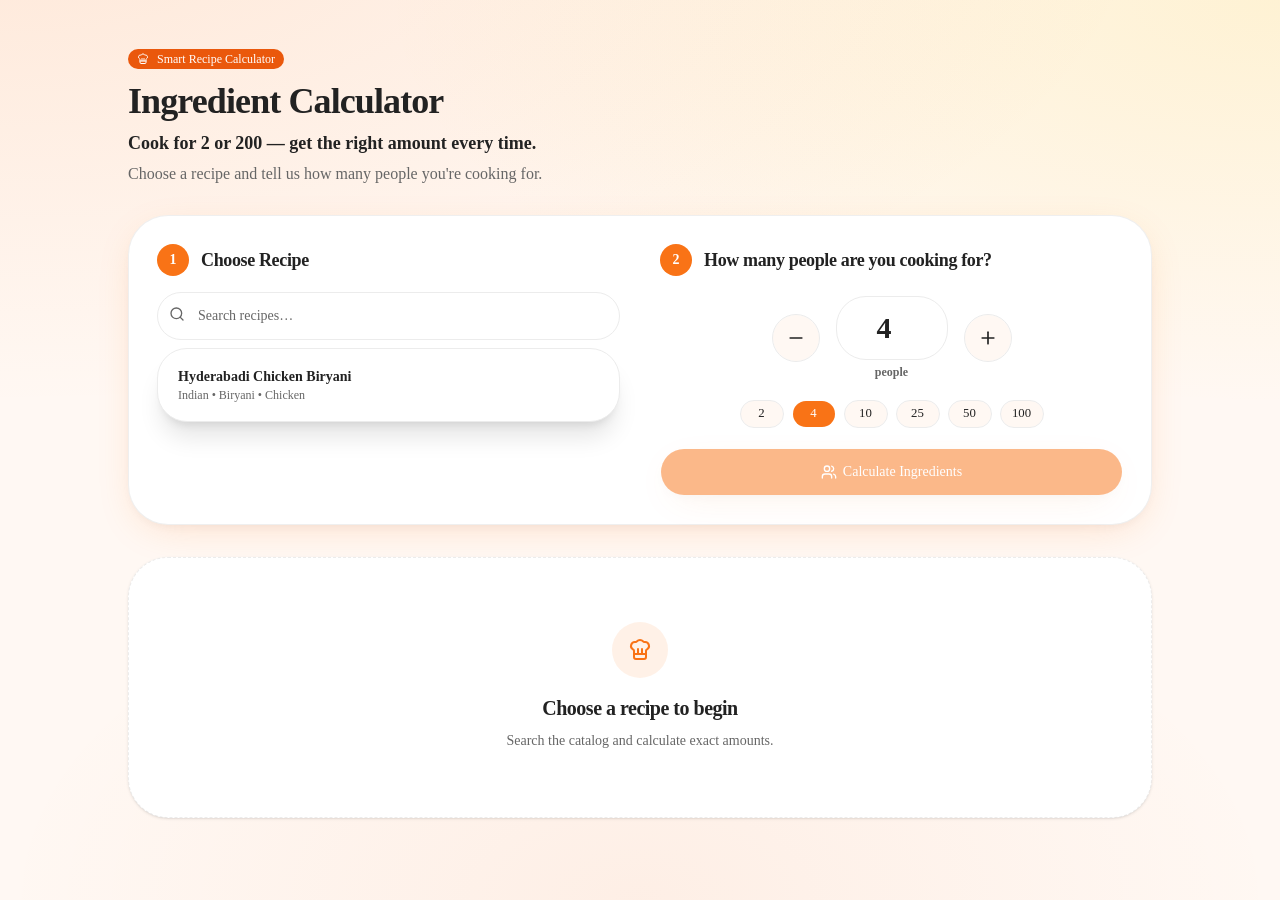
Scenario: Calculate page › supports direct input, step buttons, presets, and invalid validation
Step 1. Click the option "Hyderabadi Chicken Biryani Indian • Biryani • Chicken" → (265, 376), box [166, 357, 611, 413]
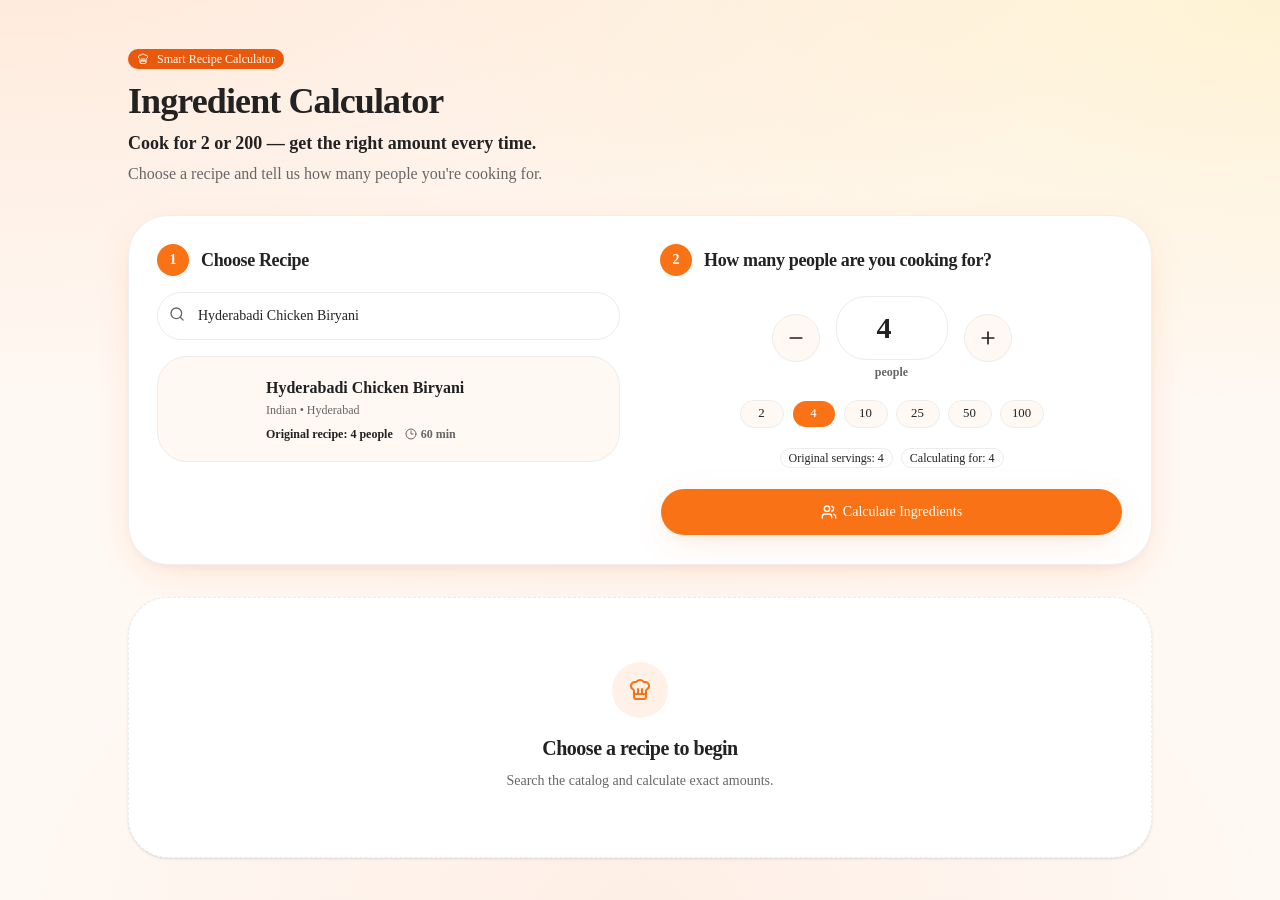
Step 2. Replace the text in the number field named "How many people" with "50" → (892, 328), box [836, 296, 948, 360]
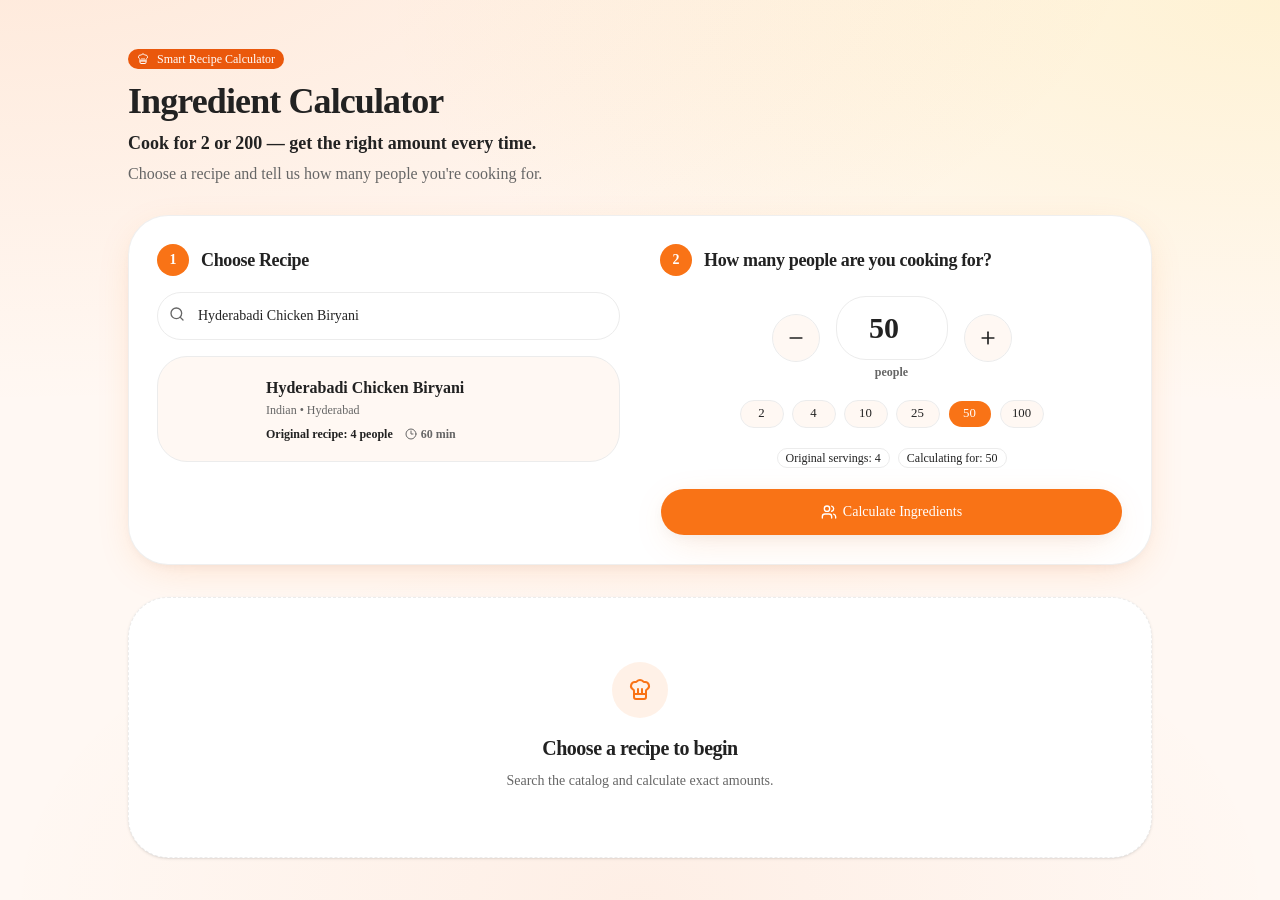
Step 3. Click the button named "Increase people" → (988, 338), box [964, 314, 1012, 362]
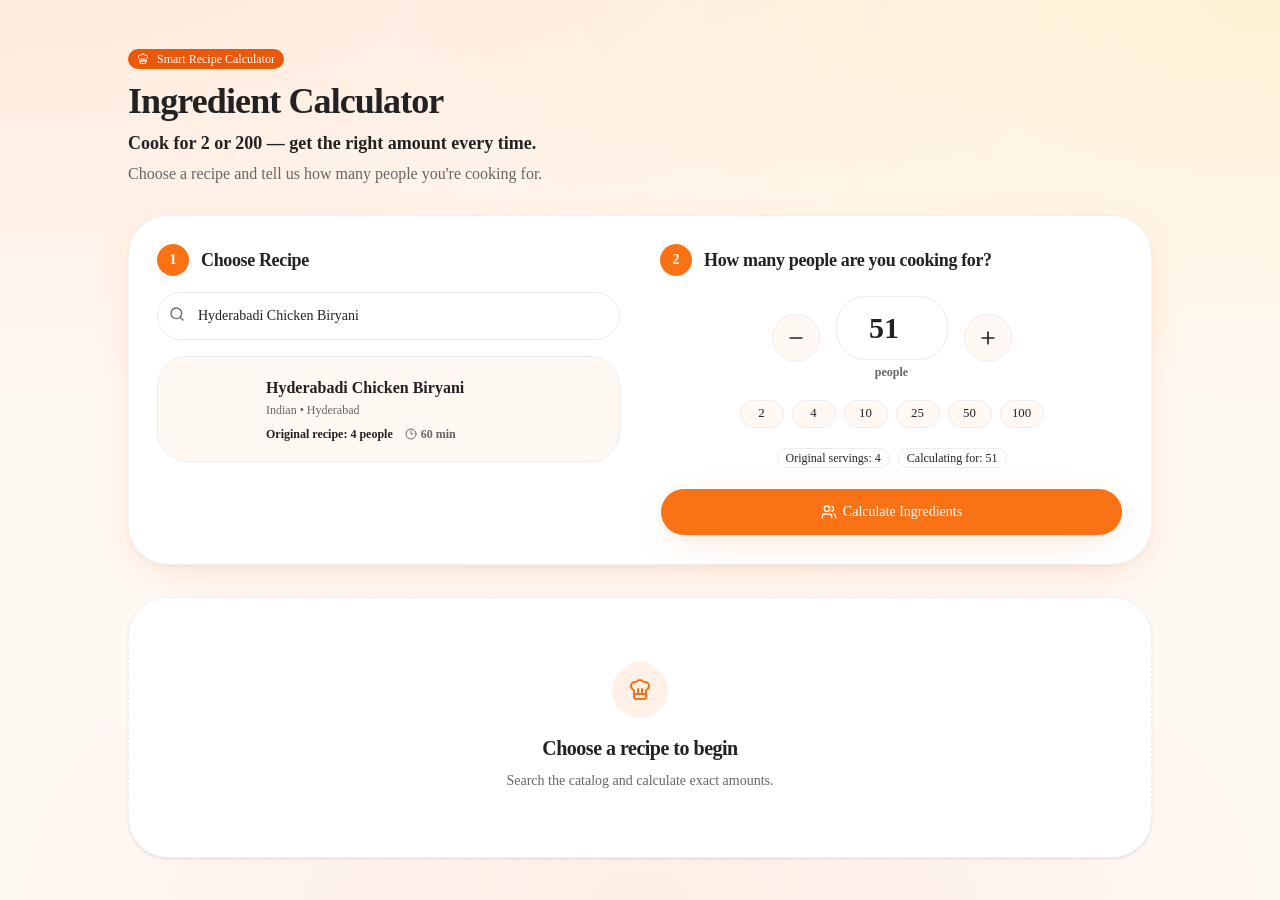
Check: the number field named "How many people" holds "51", box [836, 296, 948, 360]
Step 4. Click the button "25" → (918, 414), box [896, 400, 940, 428]
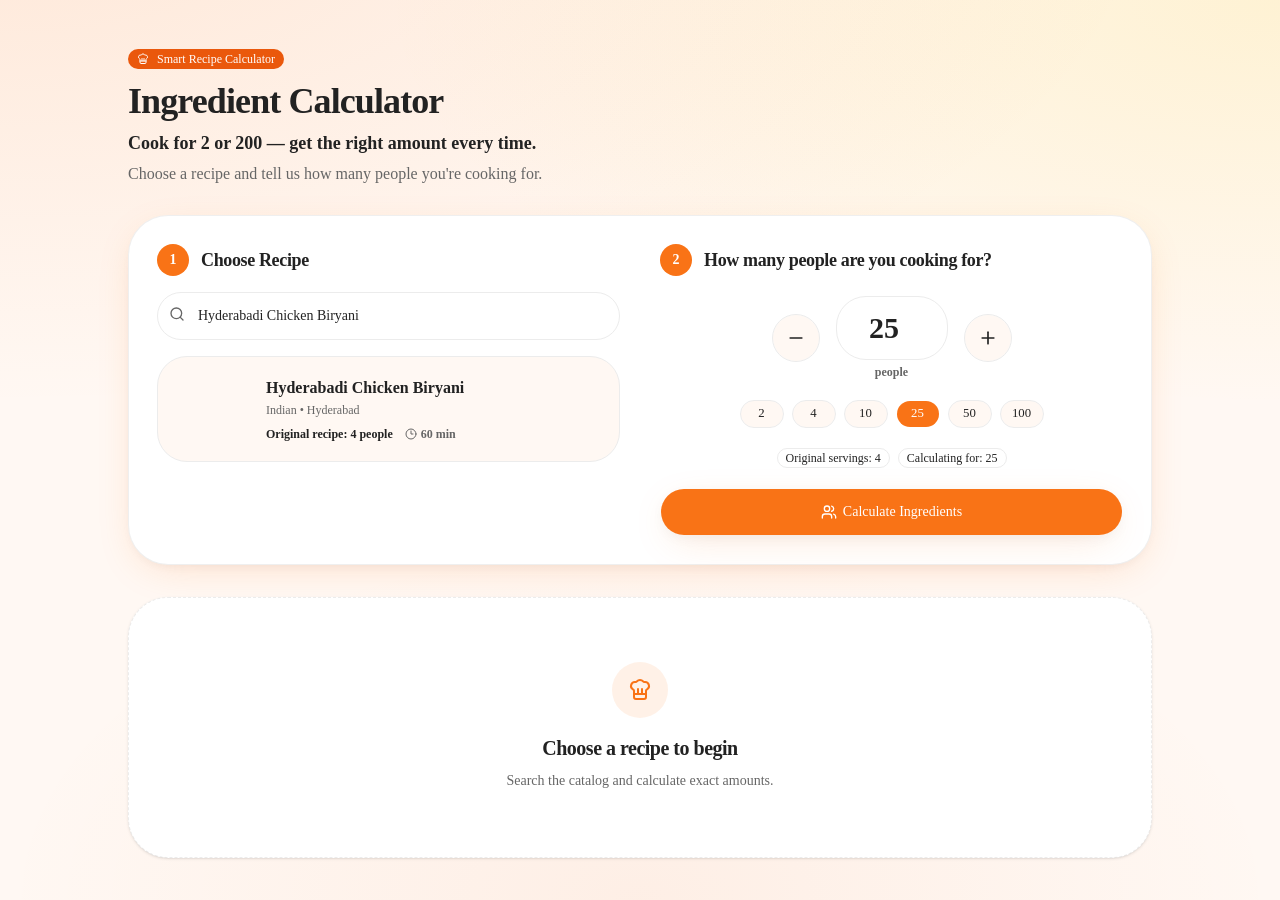
Check: the number field named "How many people" holds "25"
Step 5. Replace the text in the number field named "How many people" with "0" → (892, 328), box [836, 296, 948, 360]
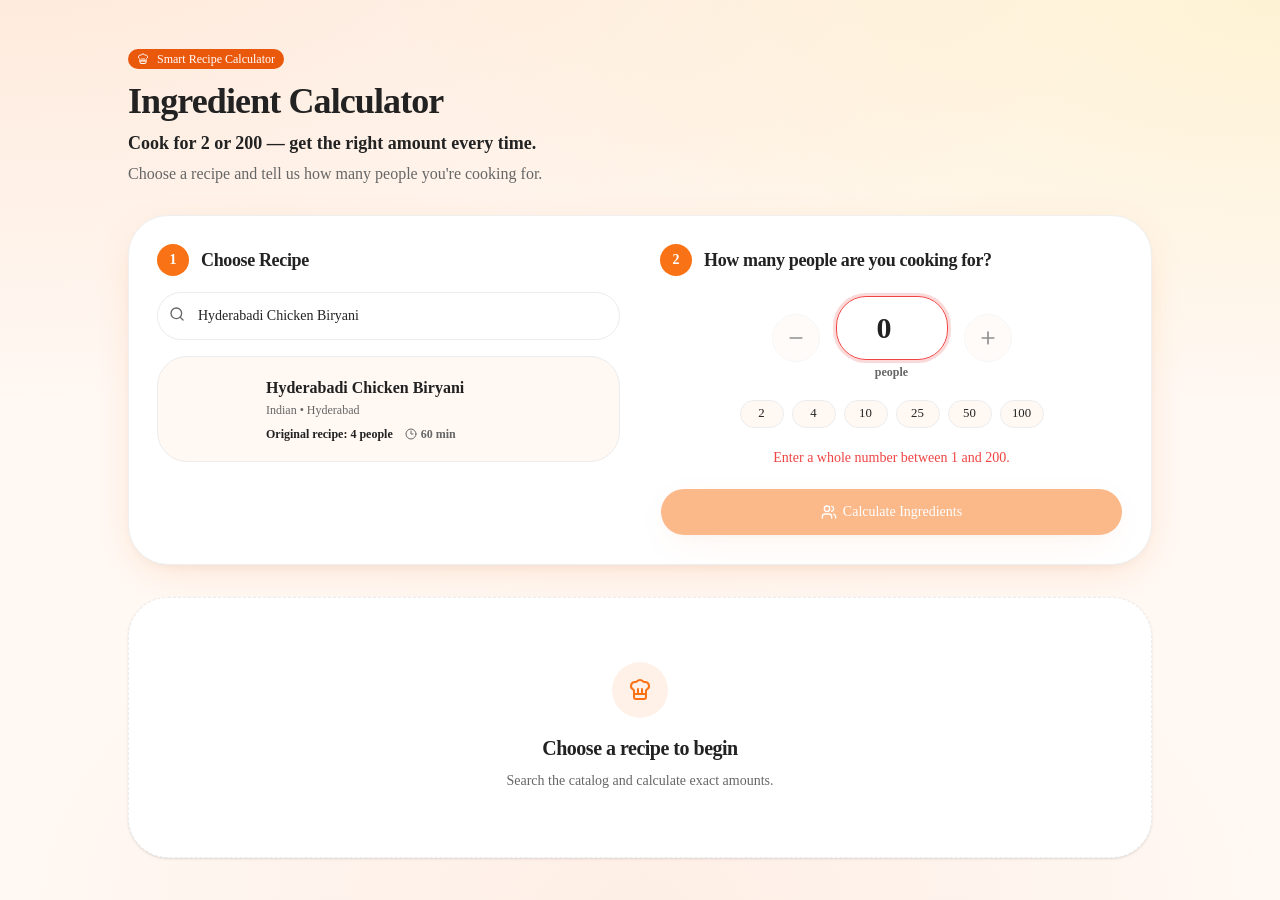
Check: the message shows "between 1 and 200", box [773, 450, 1010, 465]
Check: the button "Calculate Ingredients" is disabled, box [660, 488, 1123, 536]
